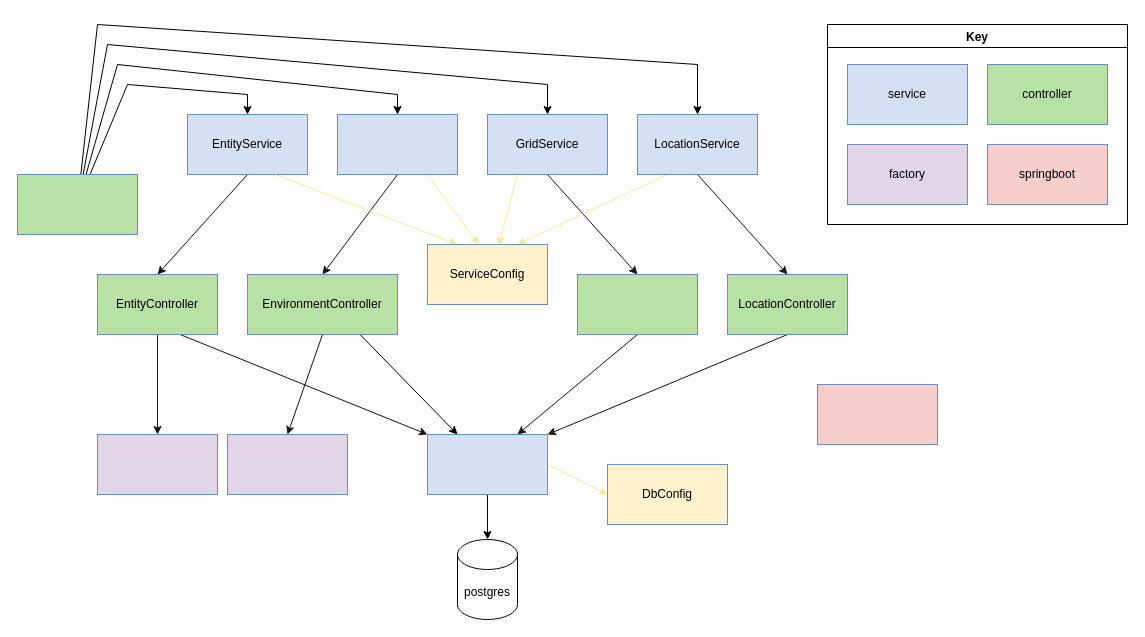
This 1145x637 diagram has some shape labels left out. The centre of each missing label's shape, as x and y in pixels:
"DbInteractions" belongs at point 487,464.
"DebugController" belongs at point 77,204.
"EntityFactory" belongs at point 157,464.
"EnvironmentFactory" belongs at point 287,464.
"EnvironmentService" belongs at point 397,144.
"GridController" belongs at point 637,304.
"VironApplication" belongs at point 877,414.
